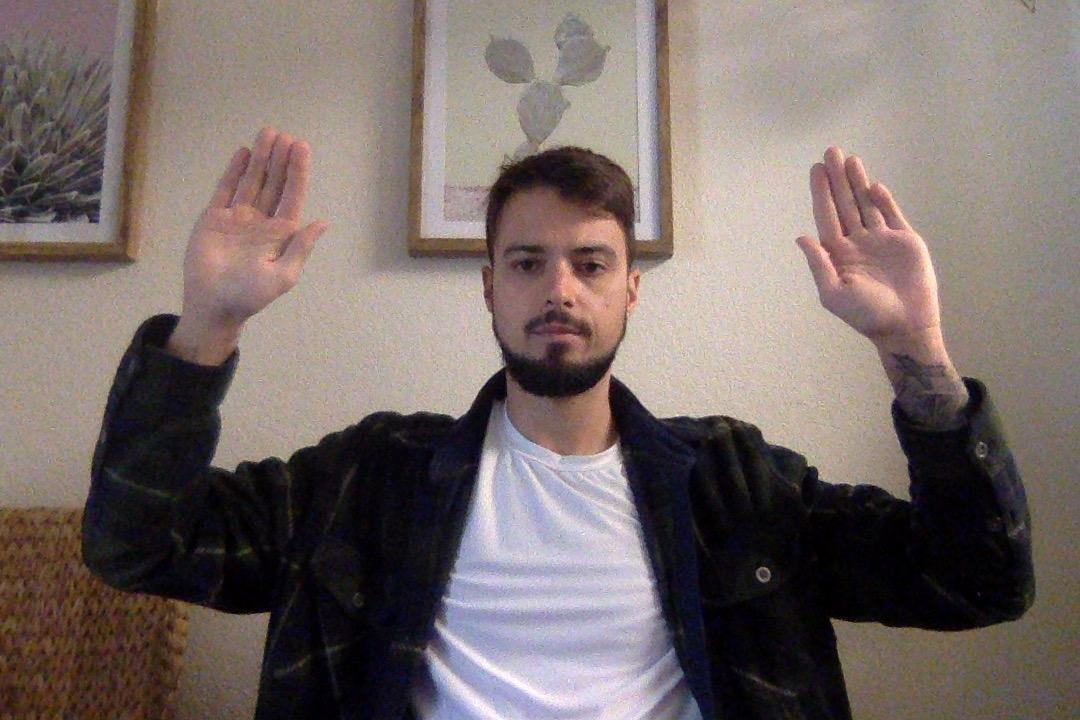Hand-Raised: (773, 135, 971, 371), (164, 116, 342, 354)
